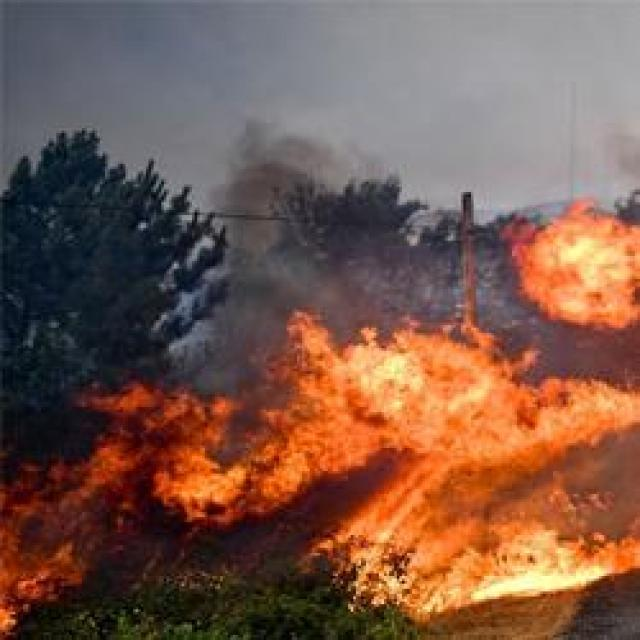Fire: (305, 334, 640, 612), (98, 378, 304, 526), (511, 200, 638, 333), (0, 458, 95, 632)
Smoke: (2, 0, 640, 129), (197, 132, 425, 322)
